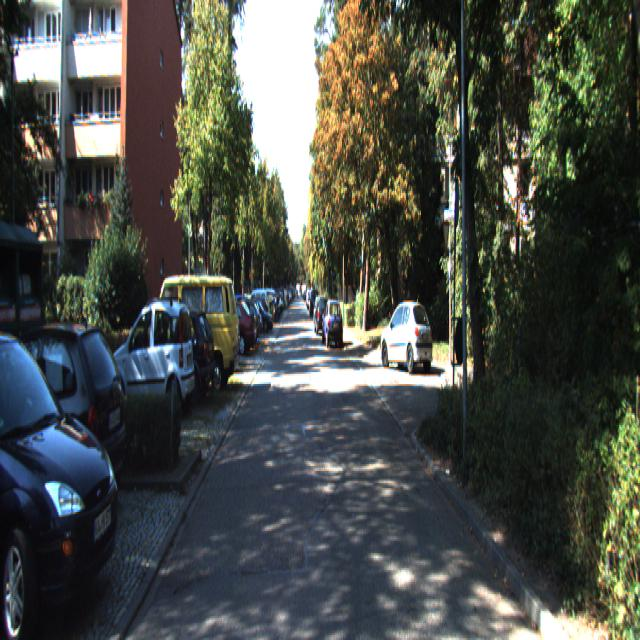Car: (0, 314, 125, 638), (0, 316, 133, 538), (107, 300, 197, 428), (153, 272, 240, 397), (132, 306, 215, 410), (379, 300, 434, 378), (208, 301, 257, 358), (322, 300, 343, 349)
